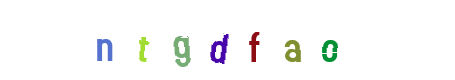A: (214, 0, 294, 80)
D: (187, 0, 267, 80)
F: (197, 0, 277, 80)
G: (179, 0, 259, 80)
N: (89, 0, 169, 80)
O: (289, 0, 369, 80)
T: (163, 0, 243, 80)
